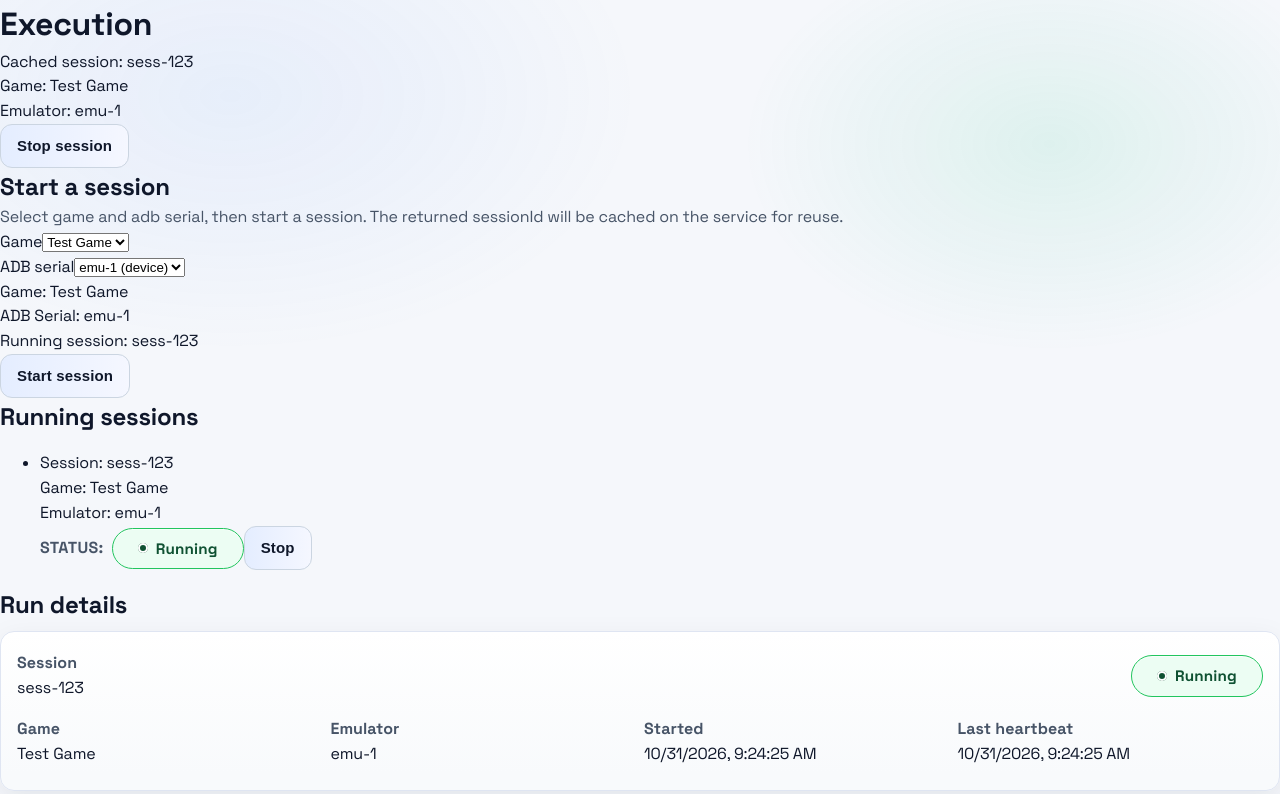
Test: ExecutionPage session reuse › clears cached banner after stop and refresh
Expected: the text "Cached session: sess-123" is shown, [0,51,193,72]
Click the button "Stop session" at (65, 146), box [0,124,129,168]
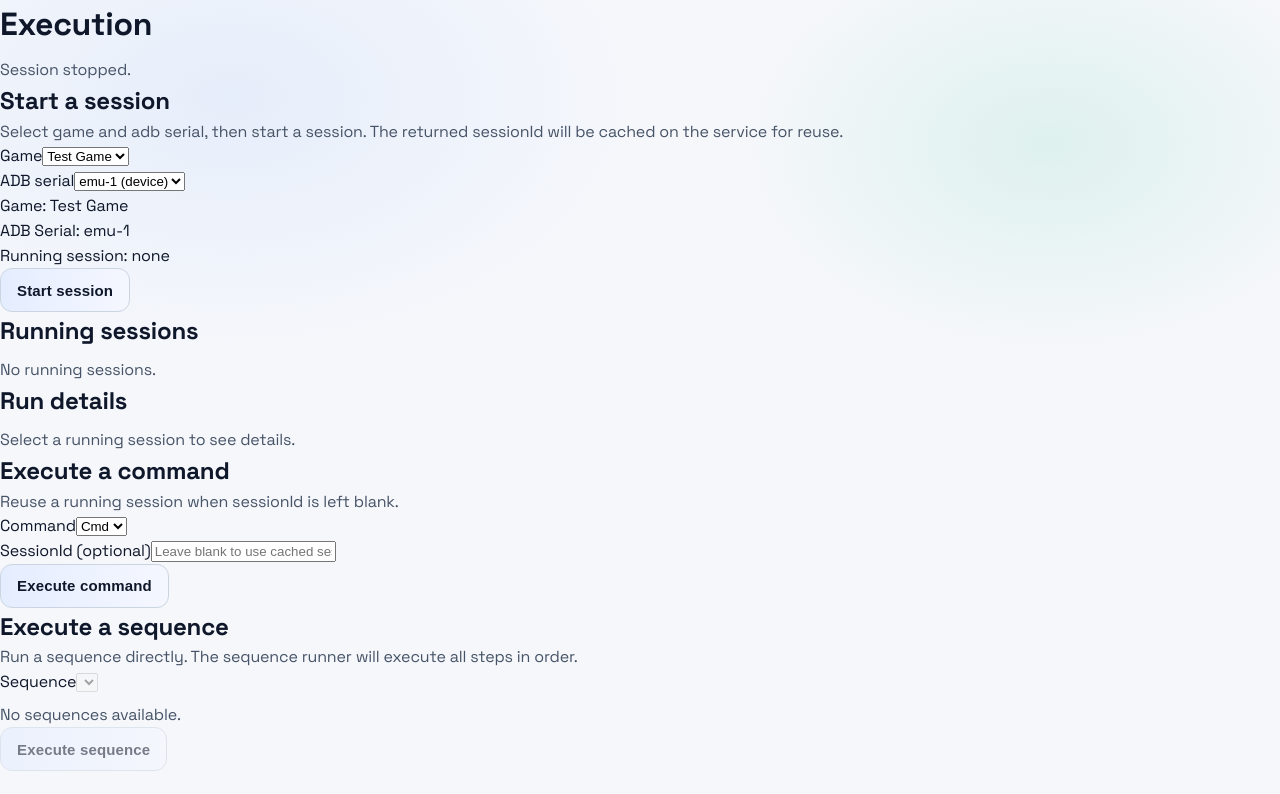
Now the text "Cached session: sess-123" is gone
